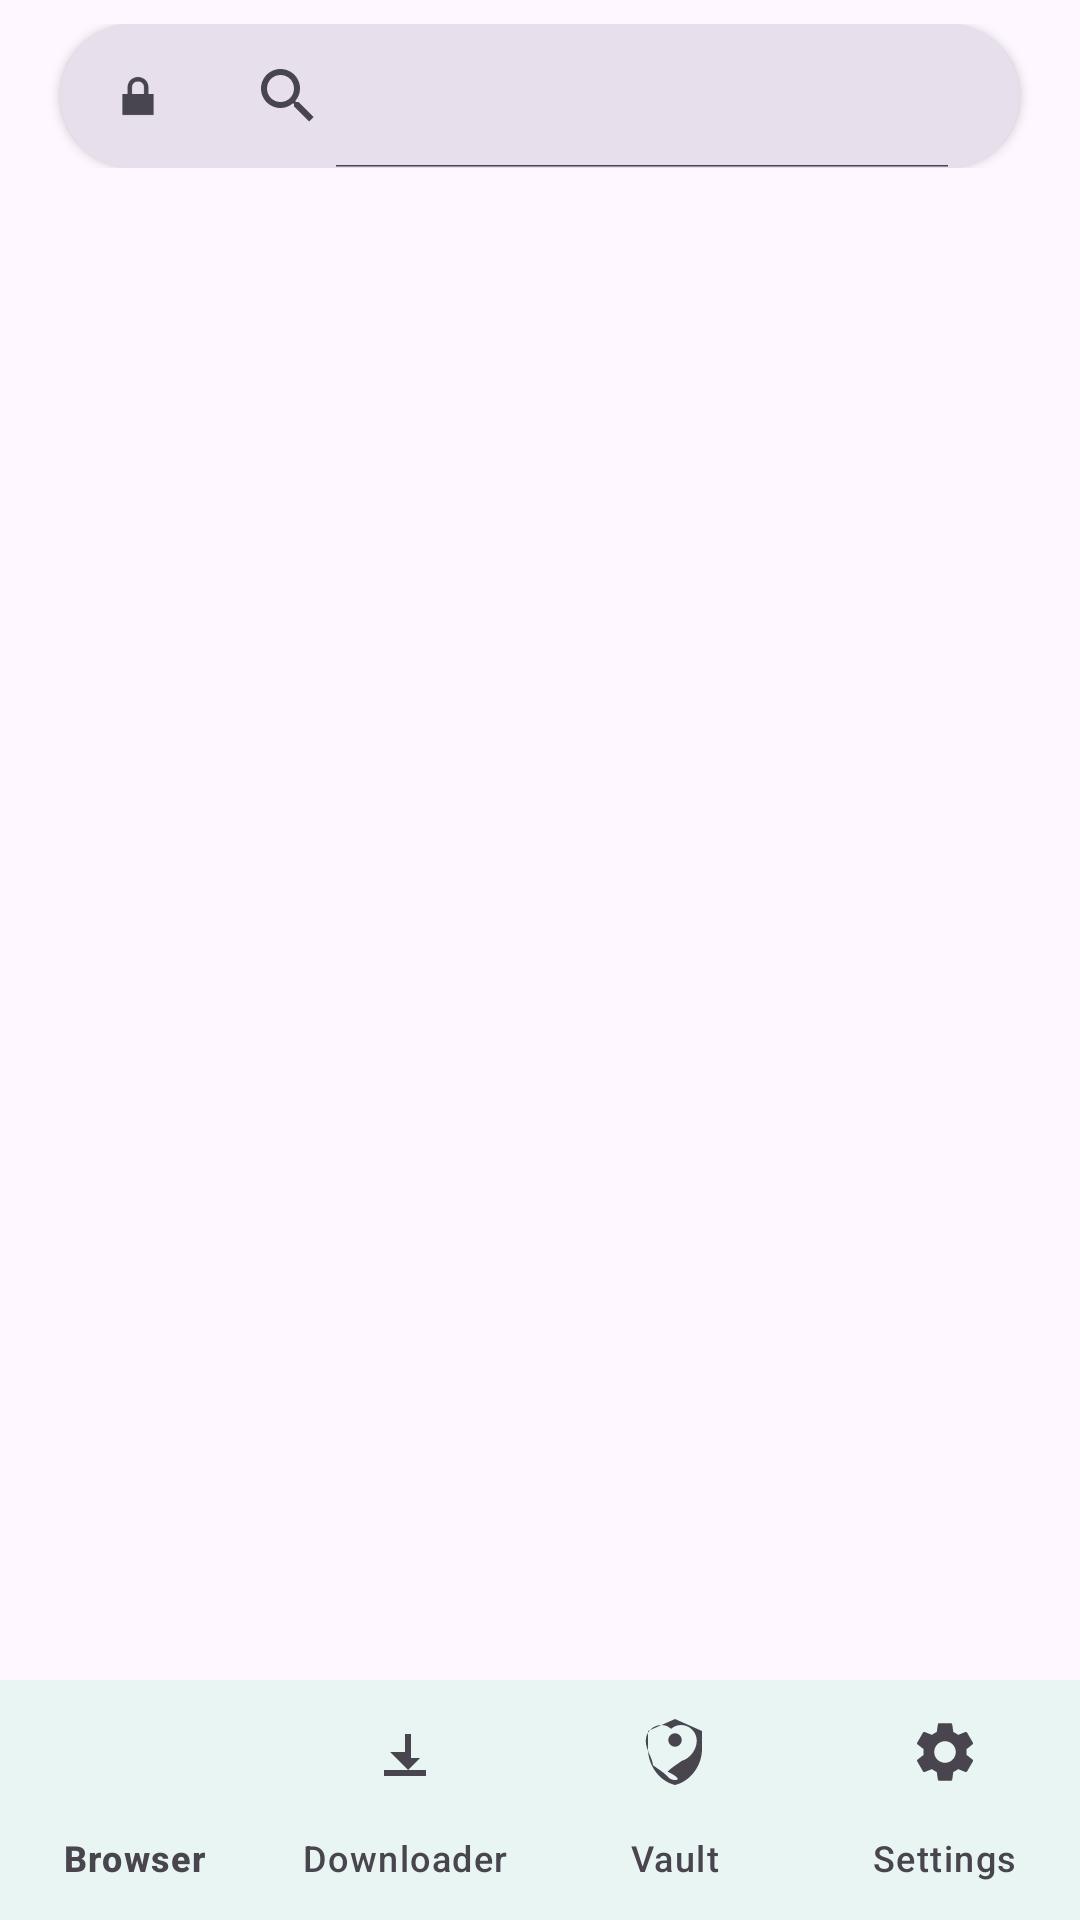

Icons on this 1080 × 1920 Android screen, each with its box as (x1, y1, x2, y2):
Site security: (122, 77, 154, 115)
